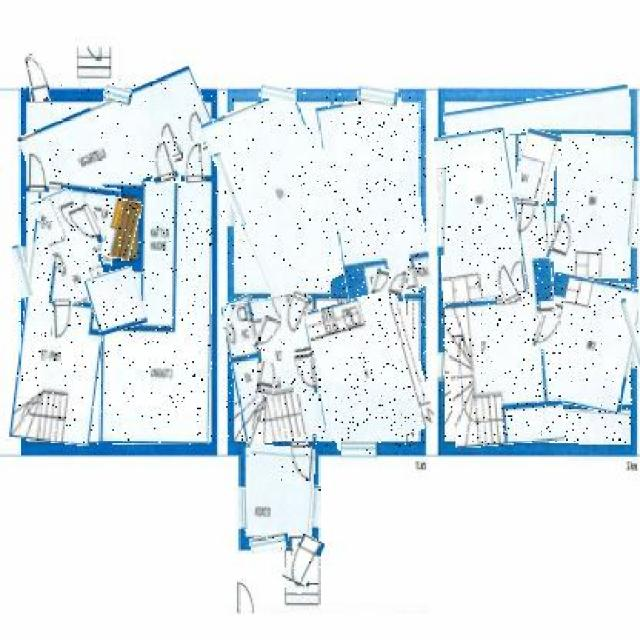door: (285, 535, 320, 594), (146, 138, 177, 188), (71, 203, 103, 248), (292, 352, 323, 394), (551, 216, 578, 264), (280, 292, 309, 336), (532, 315, 562, 351), (26, 56, 49, 101), (494, 263, 518, 305), (52, 296, 72, 342), (255, 317, 280, 351), (28, 152, 49, 192), (185, 140, 203, 186), (258, 361, 280, 397), (386, 269, 408, 303), (292, 437, 308, 483), (518, 198, 538, 234), (372, 270, 390, 296)
window: (222, 150, 240, 228), (624, 296, 640, 372), (436, 170, 446, 258), (15, 245, 31, 297), (358, 86, 398, 106), (251, 534, 289, 552), (340, 442, 377, 458), (260, 86, 295, 102), (103, 86, 132, 105), (630, 179, 638, 246), (238, 488, 248, 529), (312, 485, 320, 526), (224, 303, 233, 329), (438, 354, 444, 381)
zone: (100, 183, 212, 445), (442, 199, 560, 446), (217, 92, 349, 297), (17, 183, 112, 445), (21, 83, 217, 200), (325, 97, 426, 295), (309, 291, 428, 446), (535, 275, 640, 411), (440, 131, 523, 300), (226, 295, 320, 443), (556, 134, 632, 278), (131, 183, 189, 326), (444, 92, 630, 136), (40, 189, 102, 303), (246, 446, 314, 536), (495, 408, 631, 443), (89, 269, 145, 334), (516, 129, 558, 202), (95, 198, 138, 260), (231, 295, 266, 354)
